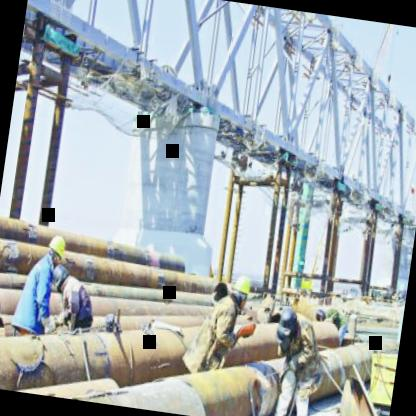helmet: (230, 272, 254, 314), (42, 232, 66, 268)
